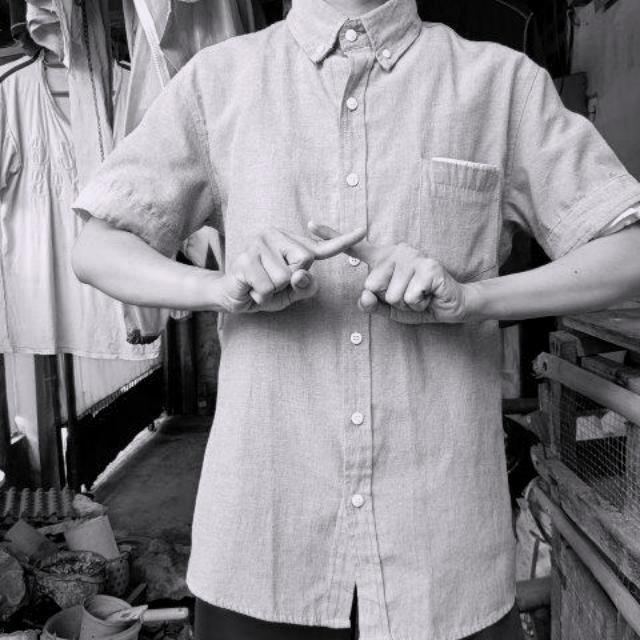X: (235, 199, 462, 336)
